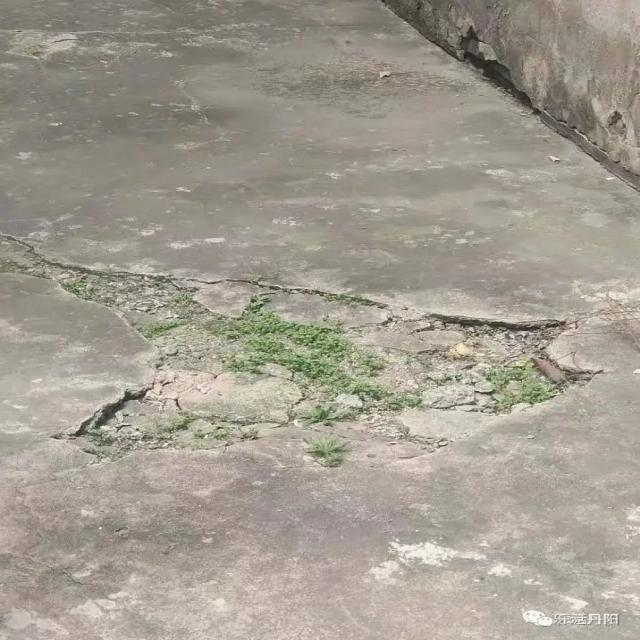Pothole: (0, 233, 607, 466)
